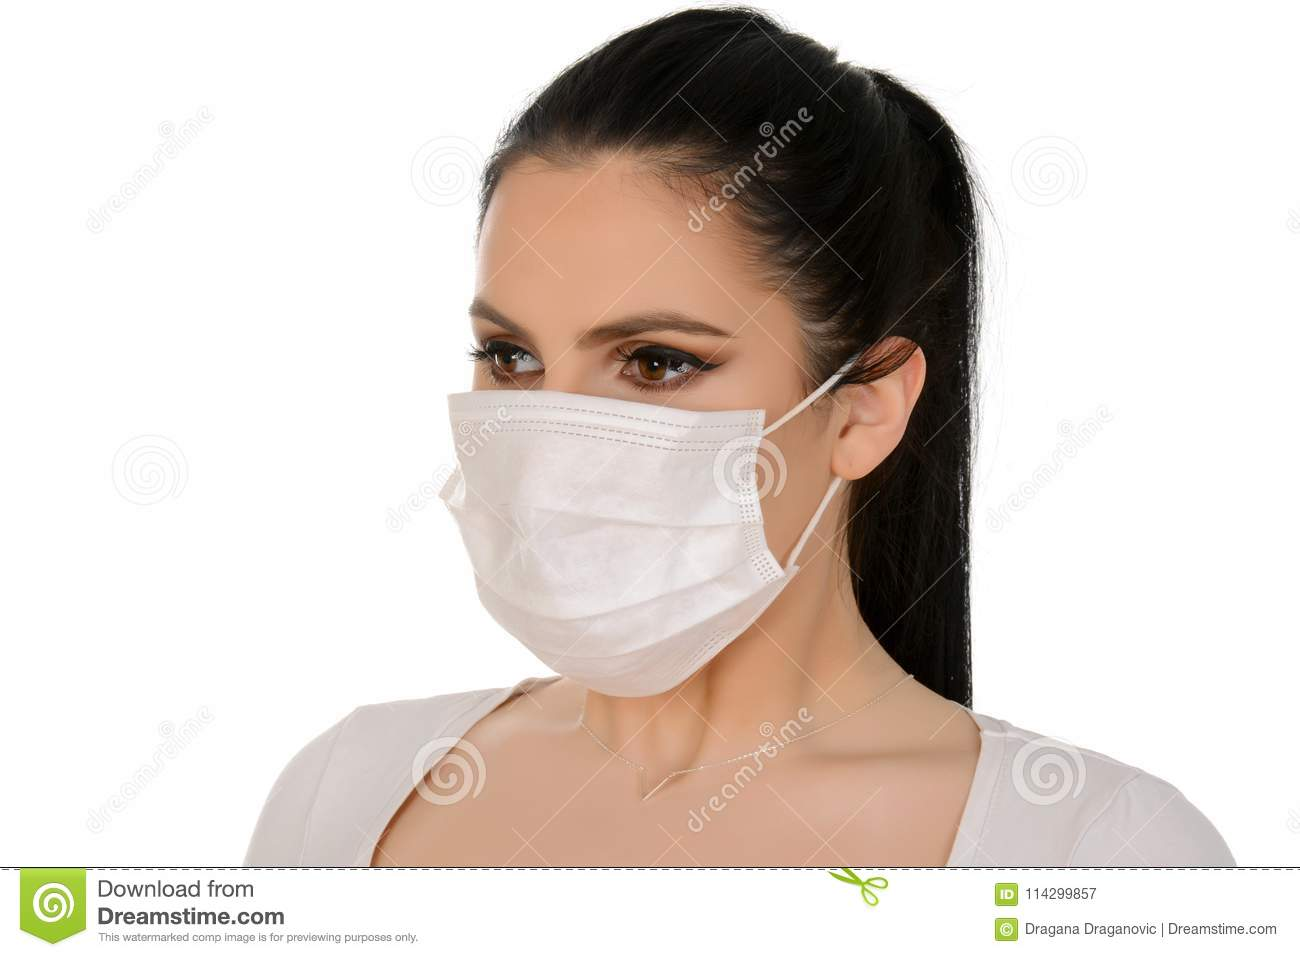mask: (446, 391, 794, 696)
